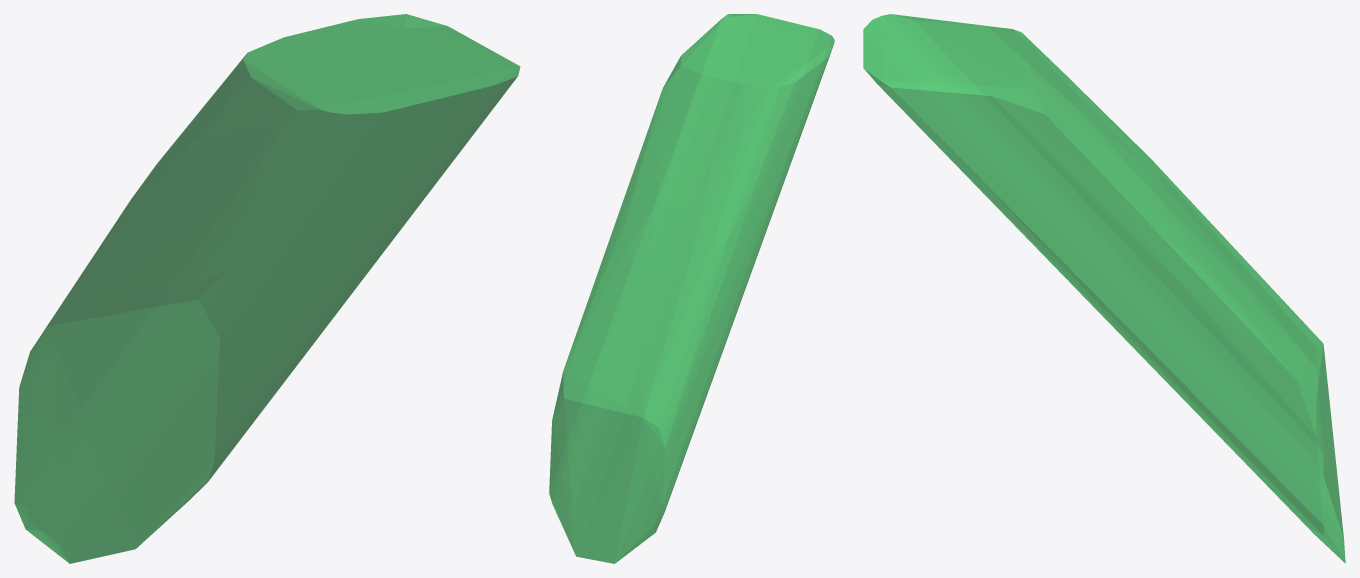
The picture shows the model from 3 angles, left to right: view 1: azimuth 30°, elevation 25°; view 2: azimuth 150°, elevation 25°; view 3: azimuth 270°, elevation 25°; orthographic projection. The views are drawn at different scales.
Parts seen in each view (by area): view 1: Shape_IndexedFaceSet.001_Shape_IndexedFaceSet.14609; view 2: Shape_IndexedFaceSet.001_Shape_IndexedFaceSet.14609; view 3: Shape_IndexedFaceSet.001_Shape_IndexedFaceSet.14609.
Part boxes in pixels (x1,y1,x2,y2): Shape_IndexedFaceSet.001_Shape_IndexedFaceSet.14609: (14, 14, 520, 563); Shape_IndexedFaceSet.001_Shape_IndexedFaceSet.14609: (549, 14, 834, 563); Shape_IndexedFaceSet.001_Shape_IndexedFaceSet.14609: (863, 14, 1345, 563).
Bounding box in the file's own units: 0.1362 × 0.4475 × 0.3893.
